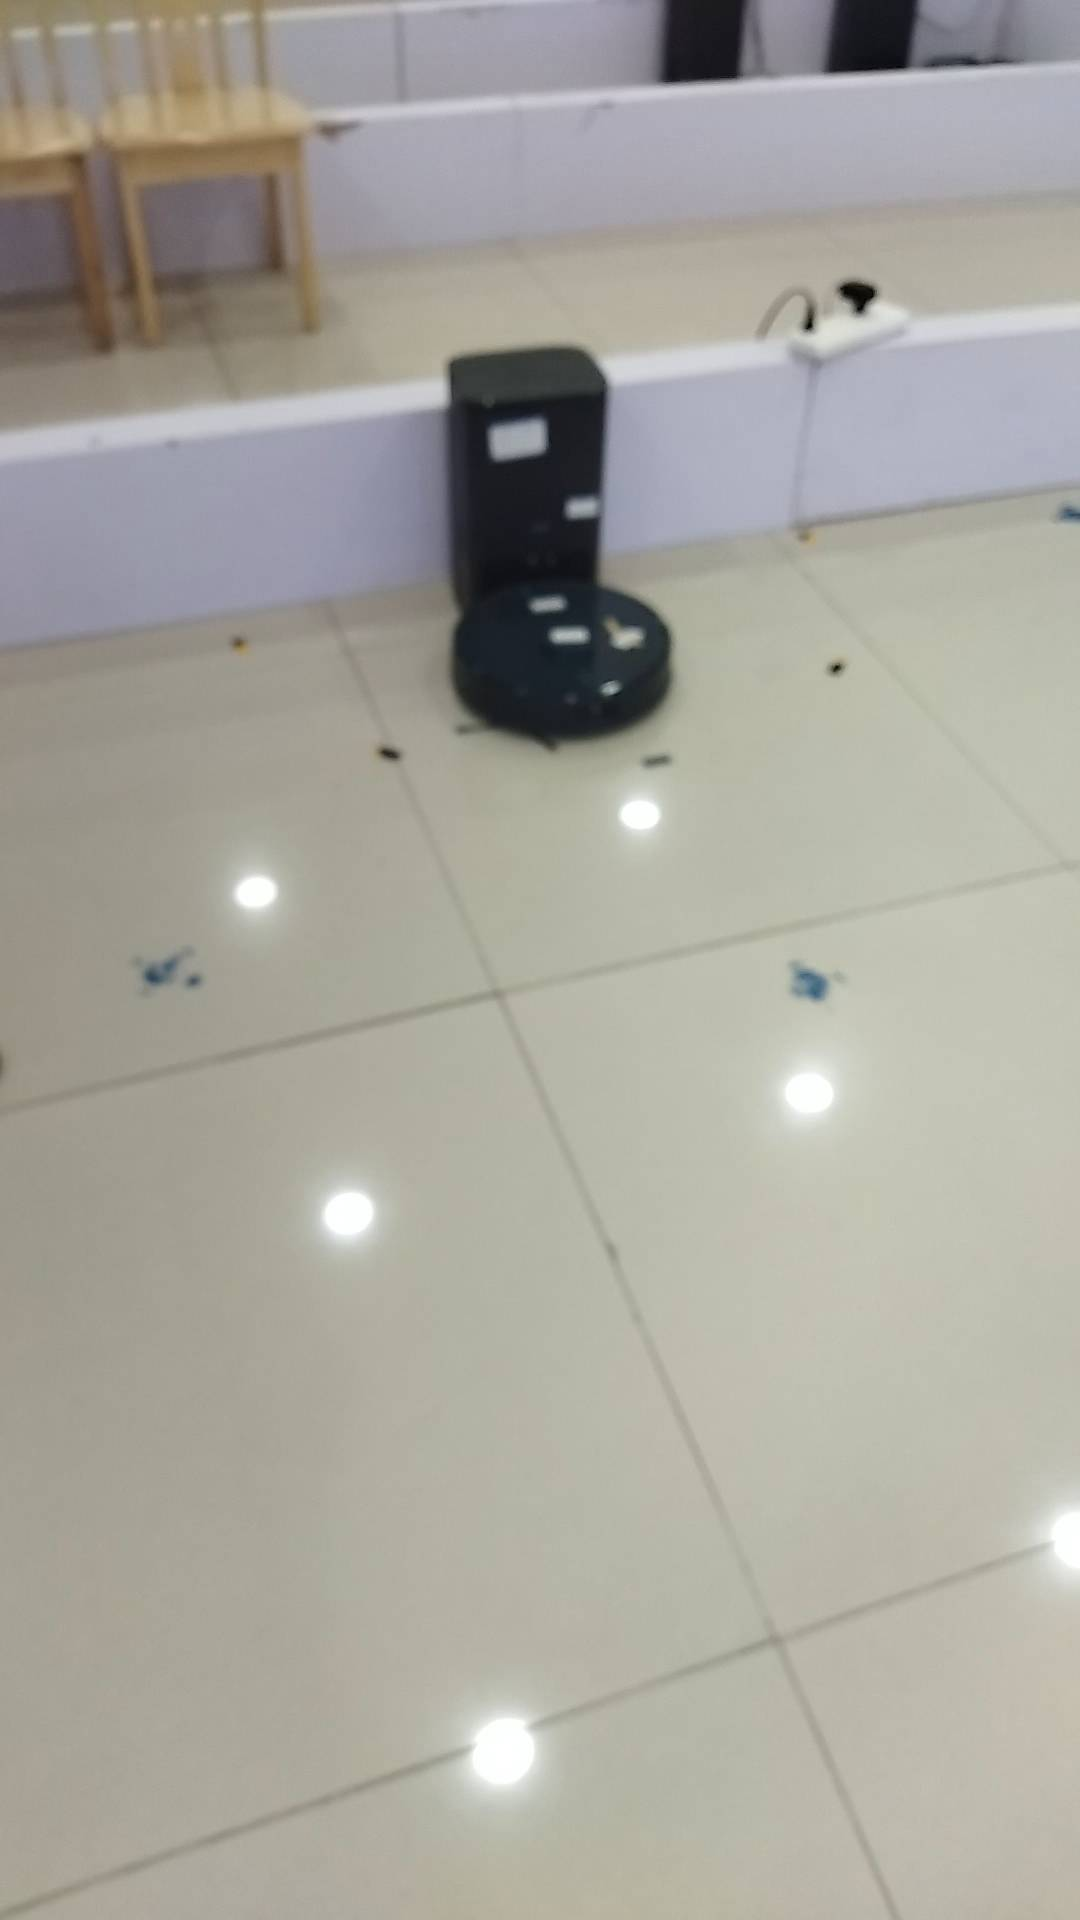dust collecting barrel: (447, 343, 611, 613)
